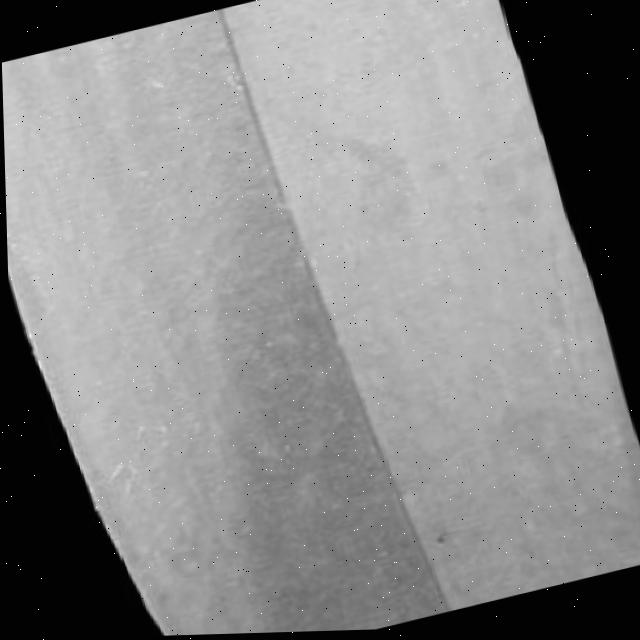mite: (177, 328, 401, 635), (415, 521, 458, 564), (421, 529, 450, 556), (427, 534, 445, 551)
